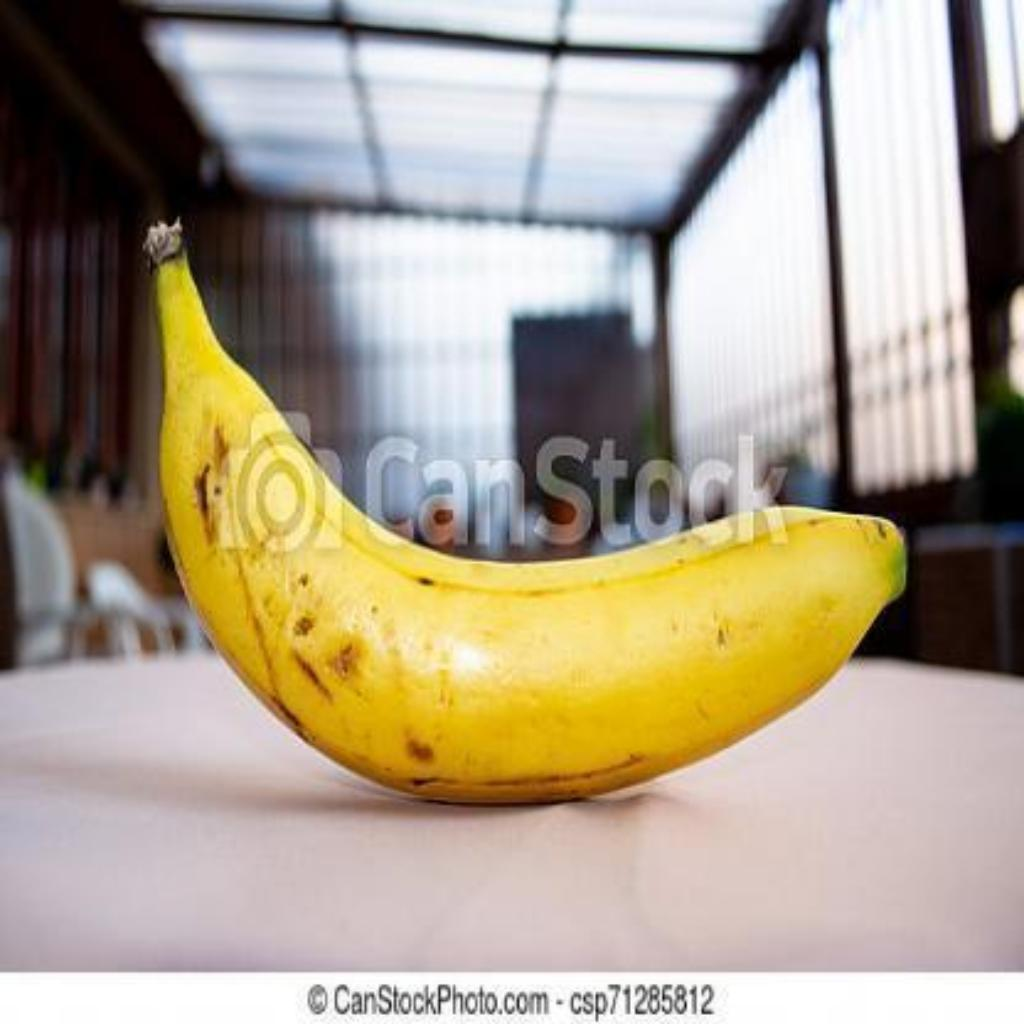banana: (167, 268, 908, 798)
